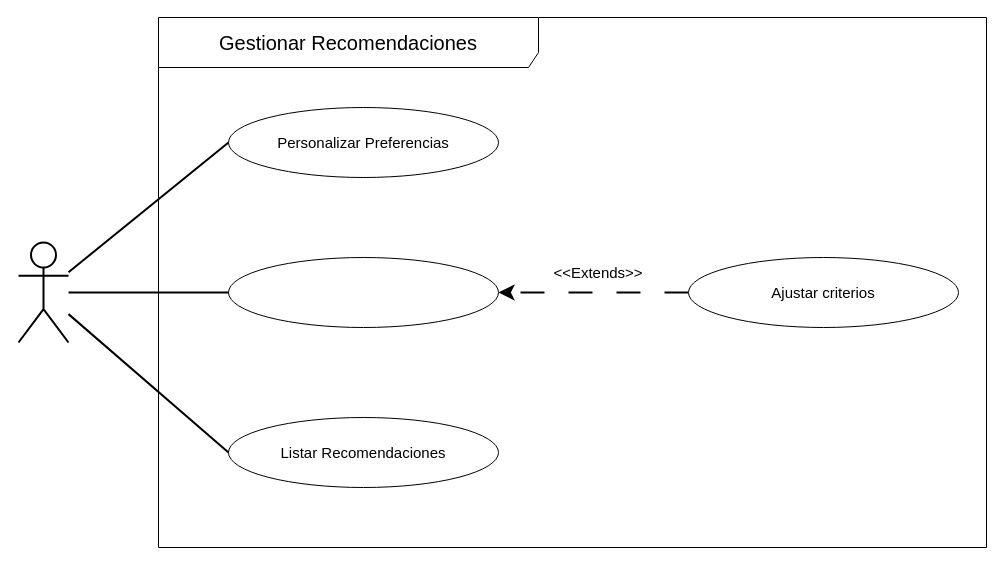
Image size: 1004x565. Some labels were removed from this diagram. The shapes that lost their labels are listed below. From the top down, each one's centre as x and y in pixels, then its label:
[43,292]: Turista
[363,292]: Generar Recomendación
